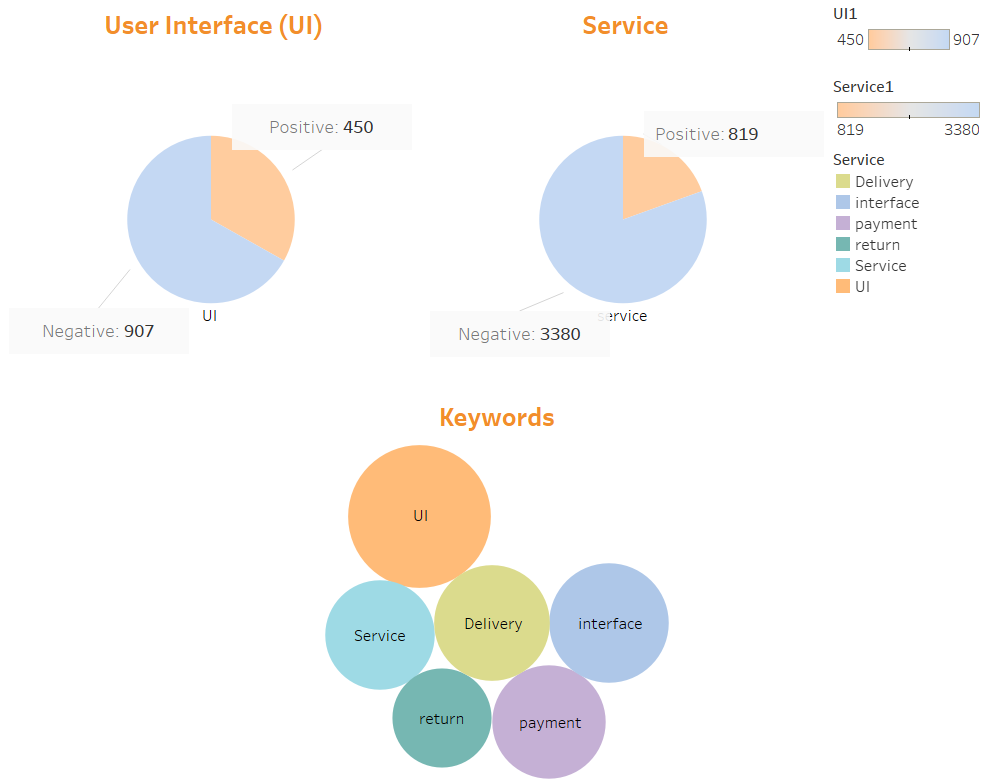

The page's visual inventory and layout, read from the dashboard file:
{"tool":"tableau","page":{"name":"Dashboard 4","canvas":[1000,800],"ordinal":3},"visuals":[{"type":"worksheet","title":"Sheet 7","mark":"Automatic","box":[8,8,824,525]},{"type":"legend","title":"Sheet 7","param":"[federated.1ddzucy0dadkpw12fp1pa0cfsdw6].[sum:thumbsUpCount:qk]","box":[832,8,160,73]},{"type":"legend","title":"Sheet 3","param":"[federated.1ddzucy0dadkpw12fp1pa0cfsdw6].[none:Sentiment:nk]","box":[832,81,160,72]},{"type":"worksheet","title":"Sheet 3","mark":"Circle","box":[8,533,824,259]}]}

Visuals, with their boxes in screenshot pixels (x1, y1, x2, y2), scaled from the page's 1000x800 canvas onto the 982x783 screenshot:
"Sheet 7" worksheet: BBox(8, 8, 817, 522)
"Sheet 7" legend: BBox(817, 8, 974, 79)
"Sheet 3" legend: BBox(817, 79, 974, 150)
"Sheet 3" worksheet (Circle marks): BBox(8, 522, 817, 775)
